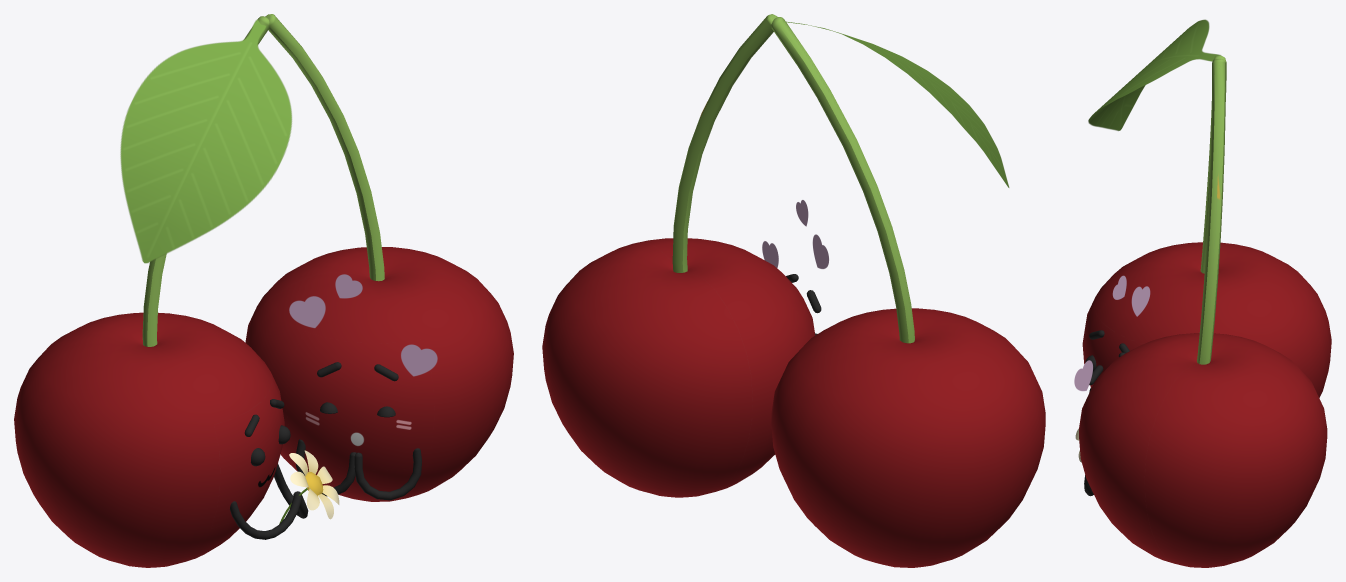
The picture shows the model from 3 angles, left to right: view 1: azimuth 30°, elevation 25°; view 2: azimuth 150°, elevation 25°; view 3: azimuth 270°, elevation 25°; orthographic projection. The views are drawn at different scales.
Parts seen in each view (by area): view 1: Disc_2; view 2: Disc_2; view 3: Disc_2.
Boxes of the visible parts, x1,y1,x2,y2 form: Disc_2: (14, 14, 513, 567); Disc_2: (542, 14, 1045, 567); Disc_2: (1074, 19, 1331, 567).
Size of the model in its own units: 419 by 441 by 220.
1 material, 1 textured.
